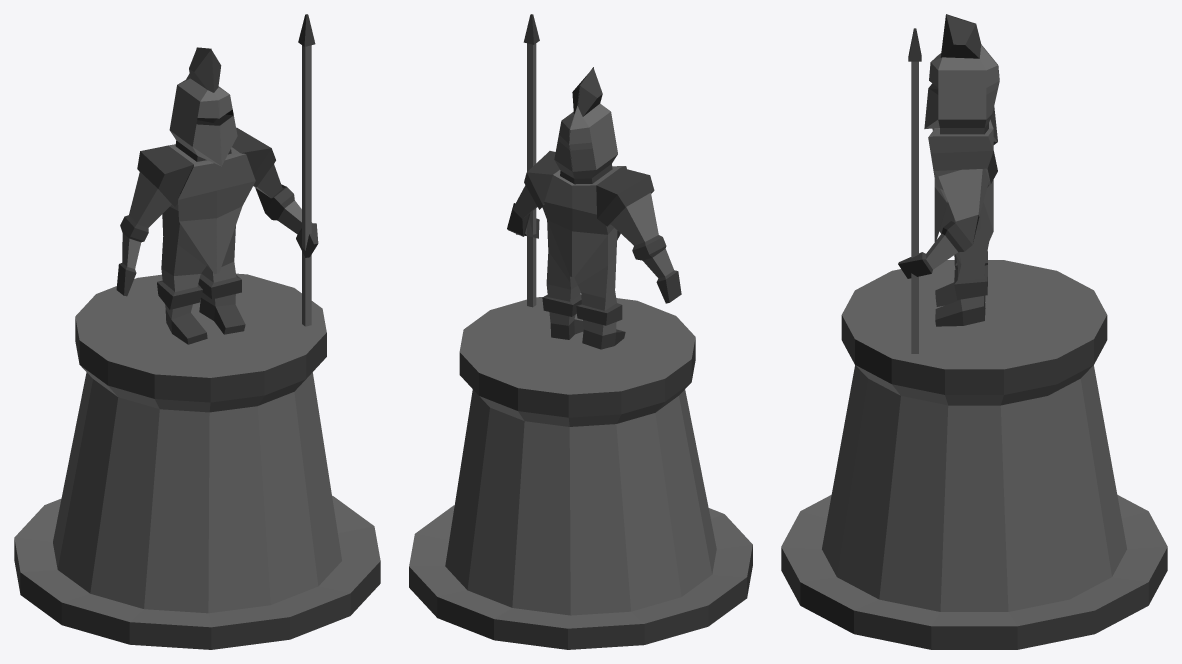
Rendered from statue.glb.
The picture shows the model from 3 angles, left to right: view 1: azimuth 30°, elevation 25°; view 2: azimuth 150°, elevation 25°; view 3: azimuth 270°, elevation 25°; orthographic projection. The views are drawn at different scales.
Parts seen in each view (by area): view 1: Cube.001; view 2: Cube.001; view 3: Cube.001.
Boxes of the visible parts, left/top/right/bottom form: Cube.001: left=14, top=14, right=380, bottom=649; Cube.001: left=409, top=14, right=752, bottom=649; Cube.001: left=781, top=14, right=1167, bottom=649.
Size of the model in its own units: 6.74 by 11.49 by 6.91.
Materials: 1 (1 with a texture image).
